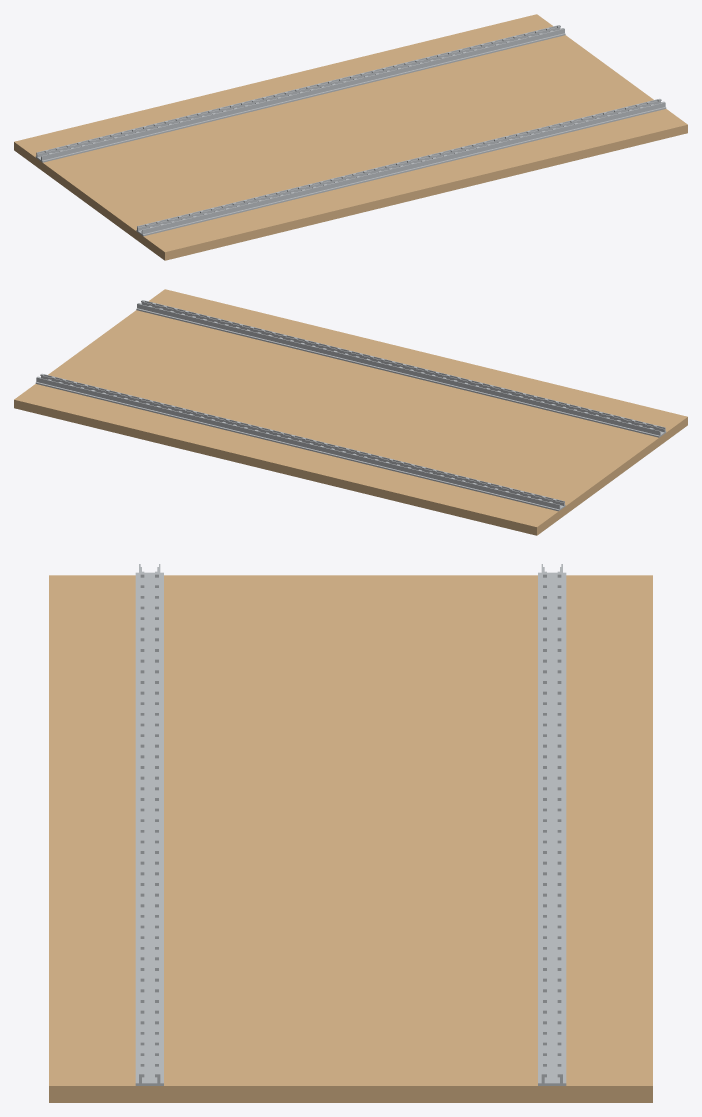
Rendered from l_track_floor.far.glb.
3 views of the same model, one above another, from view 1: azimuth 30°, elevation 25°; view 2: azimuth 150°, elevation 25°; view 3: azimuth 270°, elevation 25° (orthographic). The views are drawn at different scales.
Parts seen in each view (by area): view 1: l_track_floor, track_1, track_2; view 2: l_track_floor, track_1, track_2; view 3: l_track_floor, track_1, track_2.
Boxes of the visible parts, x1,y1,x2,y2 form: l_track_floor: (14,14,687,260); track_1: (35,25,565,162); track_2: (136,98,666,236); l_track_floor: (14,289,687,535); track_1: (35,373,565,511); track_2: (136,300,666,437); l_track_floor: (49,575,652,1102); track_1: (538,564,566,1085); track_2: (135,564,163,1085).
Size of the model in its own units: 1.22 by 0.0317 by 0.6096.
